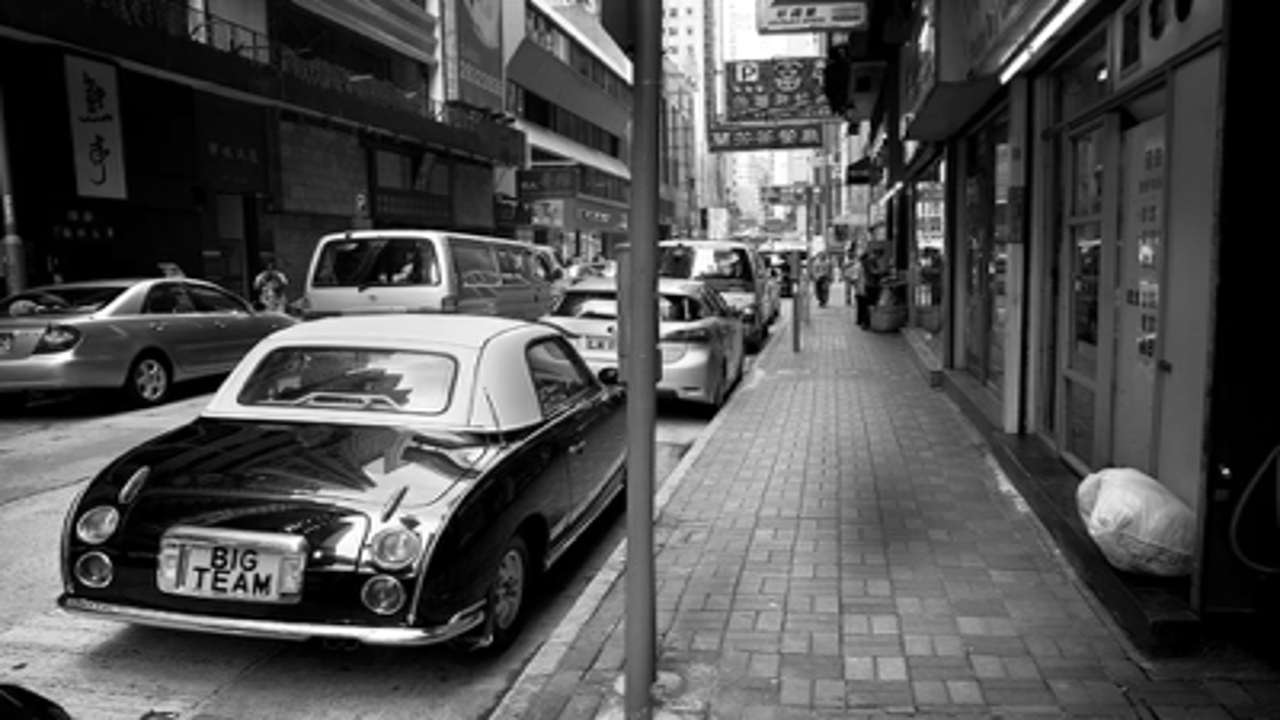license: (157, 521, 310, 612), (583, 331, 619, 357)
